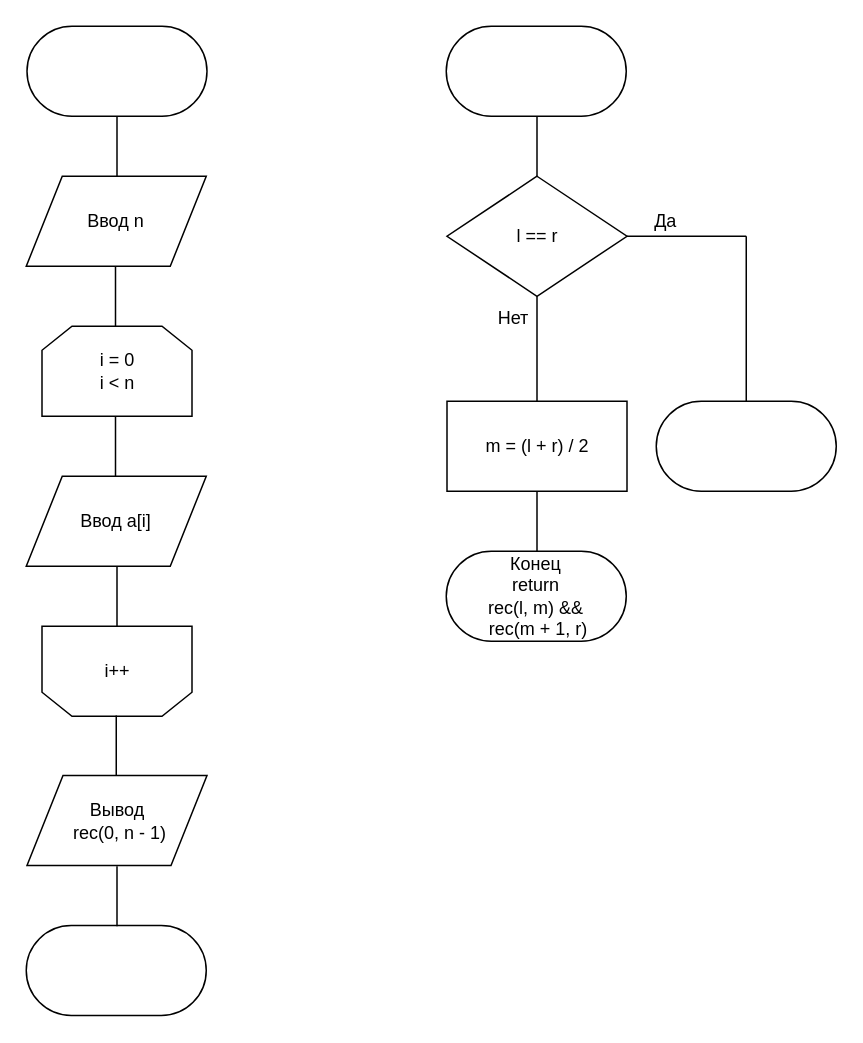
Some shapes in this 863 by 1043 pixel diagram are drawn without their labels. The box of each missing label's shape, as (x1, y1, x2, y2) in pixels:
Конец: (25, 924, 206, 1016)
Конец return a[l] < 0: (655, 400, 836, 491)
Начало: (26, 25, 207, 116)
Начало rec(l, r): (445, 25, 626, 116)
